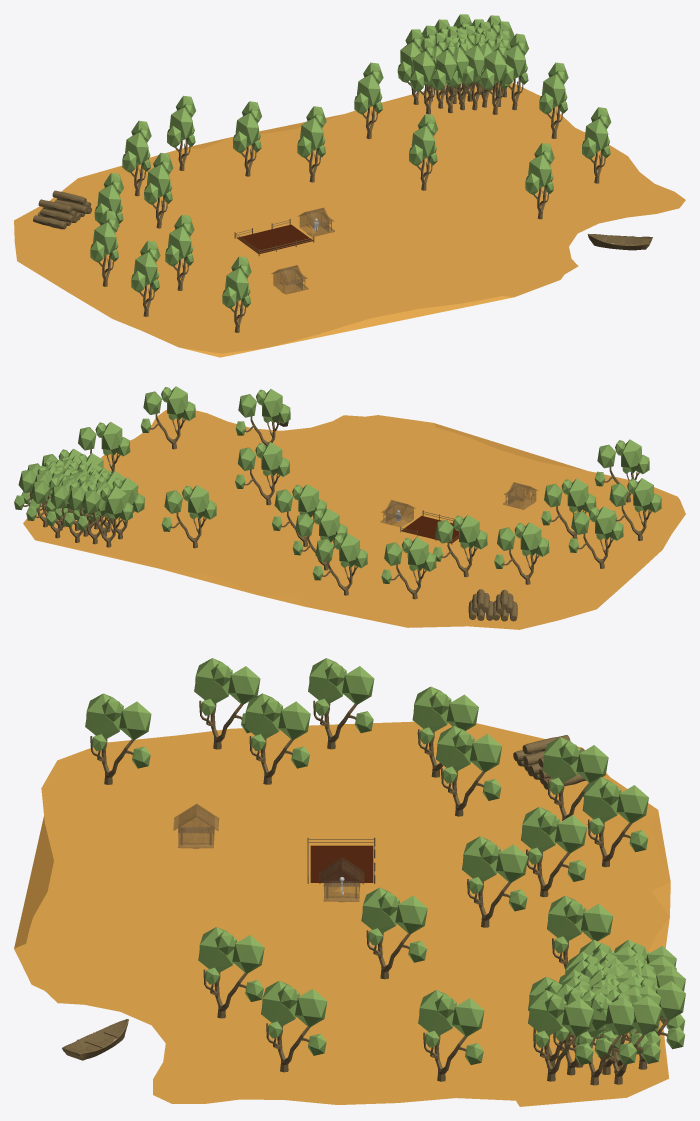
The picture shows the model from 3 angles, top to bottom: view 1: azimuth 30°, elevation 25°; view 2: azimuth 150°, elevation 25°; view 3: azimuth 270°, elevation 25°; orthographic projection. The views are drawn at different scales.
Visible parts, largest first — view 1: sand, Plane, Tree_lp_11020, Tree_lp_11011, Tree_lp_11019, Tree_lp_11036_1, Tree_lp_11027_2, Tree_lp_11029_2, Tree_lp_11030_2, Tree_lp_11035_2, Tree_lp_11040_1, Tree_lp_11033_2 (+15 smaller); view 2: sand, Tree_lp_11010, Tree_lp_11034_2, Tree_lp_11030_2, Tree_lp_11038_1, Tree_lp_11040_1, Tree_lp_11028_2, Tree_lp_11039_1, Tree_lp_11029_2, Tree_lp_11035_2, Tree_lp_11031_2, Tree_lp_11033_2 (+13 smaller); view 3: sand, Tree_lp_11020, Tree_lp_11028_2, Tree_lp_11039_1, Tree_lp_11027_2, Tree_lp_11031_2, Tree_lp_11041_1, Tree_lp_11040_1, Tree_lp_11037_1, Tree_lp_11032_2, Tree_lp_11033_2, Tree_lp_11038_1 (+16 smaller).
Boxes of the visible parts, x1,y1,x2,y2 form: sand: [14, 82, 685, 357]; Plane: [237, 224, 313, 253]; Tree_lp_11020: [502, 33, 528, 110]; Tree_lp_11011: [410, 38, 435, 114]; Tree_lp_11019: [480, 38, 508, 114]; Tree_lp_11036_1: [131, 240, 160, 292]; Tree_lp_11027_2: [539, 62, 568, 114]; Tree_lp_11029_2: [354, 62, 383, 114]; Tree_lp_11030_2: [122, 120, 151, 172]; Tree_lp_11035_2: [90, 210, 119, 262]; Tree_lp_11040_1: [525, 143, 554, 195]; Tree_lp_11033_2: [144, 152, 173, 204]; sand: [23, 409, 685, 629]; Tree_lp_11010: [77, 486, 133, 547]; Tree_lp_11034_2: [494, 522, 549, 568]; Tree_lp_11030_2: [381, 537, 436, 583]; Tree_lp_11038_1: [594, 439, 649, 486]; Tree_lp_11040_1: [235, 389, 290, 435]; Tree_lp_11028_2: [140, 386, 195, 432]; Tree_lp_11039_1: [235, 442, 289, 488]; Tree_lp_11029_2: [161, 485, 216, 531]; Tree_lp_11035_2: [568, 506, 623, 552]; Tree_lp_11031_2: [312, 533, 367, 580]; Tree_lp_11033_2: [432, 514, 487, 561]; sand: [14, 721, 670, 1106]; Tree_lp_11020: [528, 990, 594, 1081]; Tree_lp_11028_2: [261, 980, 327, 1055]; Tree_lp_11039_1: [361, 887, 427, 962]; Tree_lp_11027_2: [418, 990, 484, 1064]; Tree_lp_11031_2: [582, 777, 648, 852]; Tree_lp_11041_1: [462, 836, 528, 911]; Tree_lp_11040_1: [198, 927, 264, 1001]; Tree_lp_11037_1: [244, 693, 310, 768]; Tree_lp_11032_2: [521, 807, 586, 881]; Tree_lp_11033_2: [436, 726, 501, 800]; Tree_lp_11038_1: [85, 693, 151, 768].
Size of what is drawn, in the model's own units: 108 by 12.79 by 79.27.
Materials: 76 (1 with a texture image).
